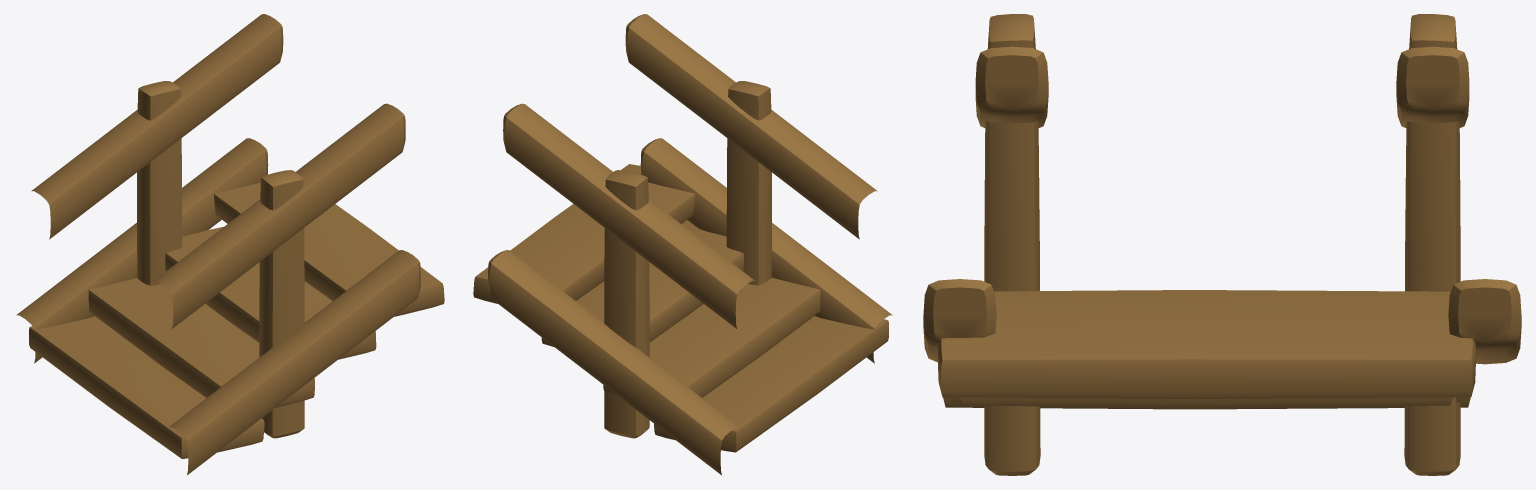
File: quaternius-platformer-game-stairs-modular-end.glb
The picture shows the model from 3 angles, left to right: view 1: azimuth 30°, elevation 25°; view 2: azimuth 150°, elevation 25°; view 3: azimuth 270°, elevation 25°; orthographic projection. The views are drawn at different scales.
Parts seen in each view (by area): view 1: Stairs_Modular_End; view 2: Stairs_Modular_End; view 3: Stairs_Modular_End.
Boxes of the visible parts, x1,y1,x2,y2 form: Stairs_Modular_End: (16,14,444,475); Stairs_Modular_End: (473,14,892,475); Stairs_Modular_End: (923,14,1521,475).
Size of the model in its own units: 2.26 by 2.42 by 2.56.
